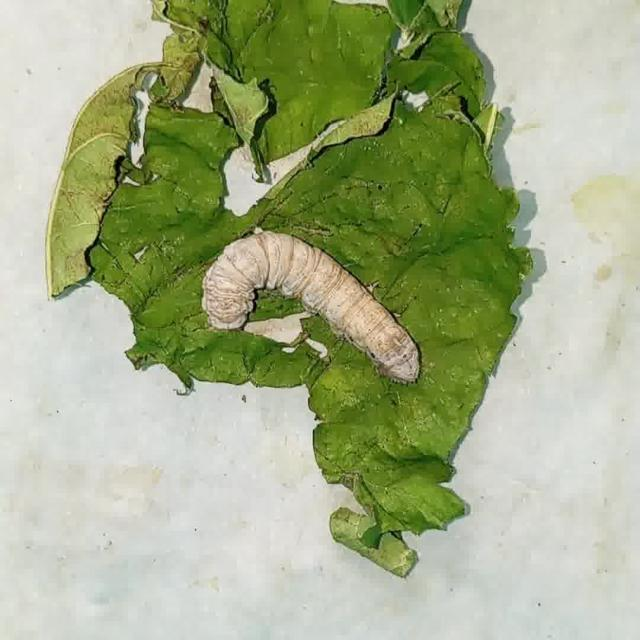Grasserie: (199, 222, 427, 388)
